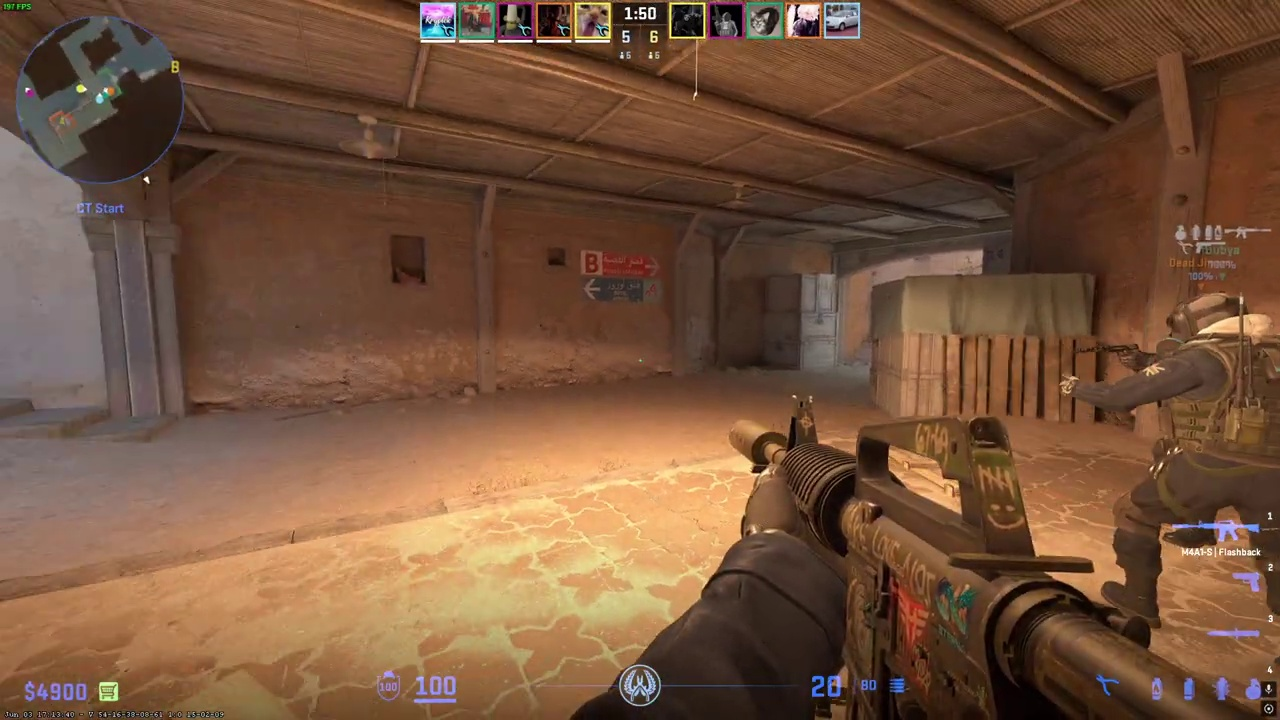CT: (1110, 293, 1279, 629)
